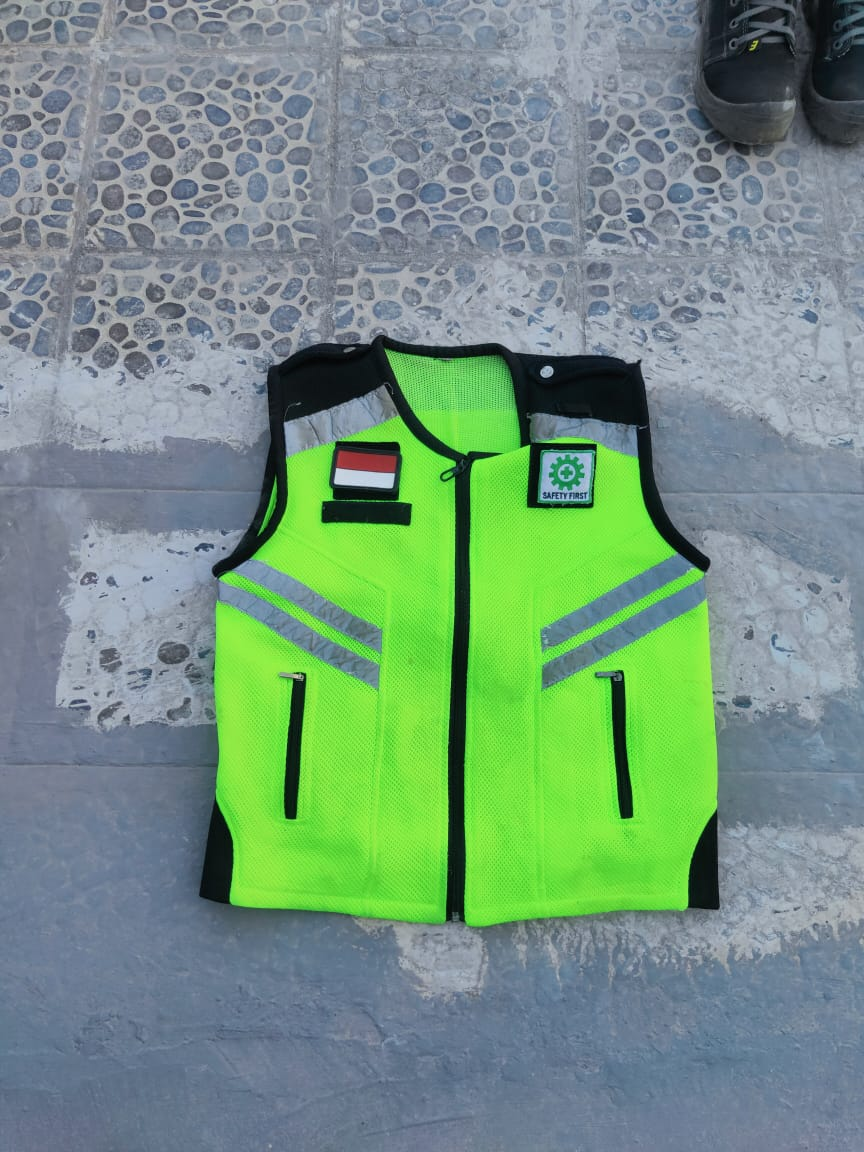ROMPI: (248, 362, 670, 917)
